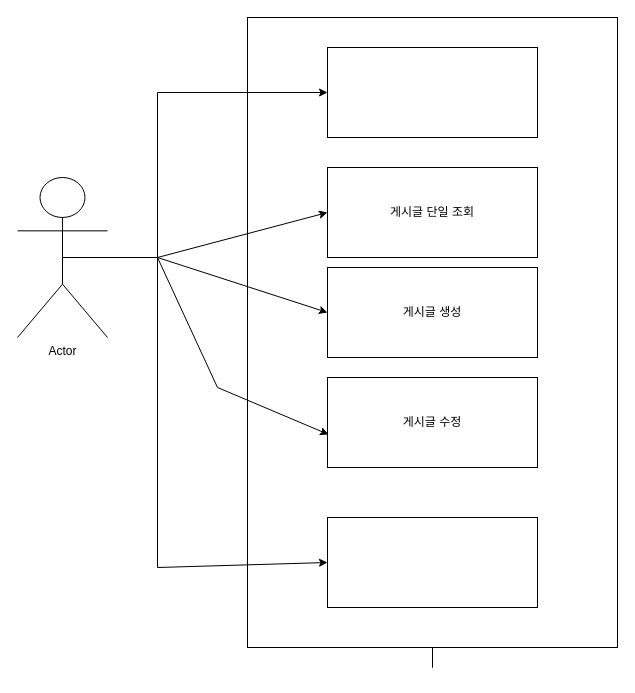
The diagram is 635 pixels wide and 693 high, and some of its shapes have lost their labels. Each missing label, with the box of its shape:
게시글 삭제: (326, 516, 538, 608)
전체 게시글 조회: (326, 46, 538, 138)
